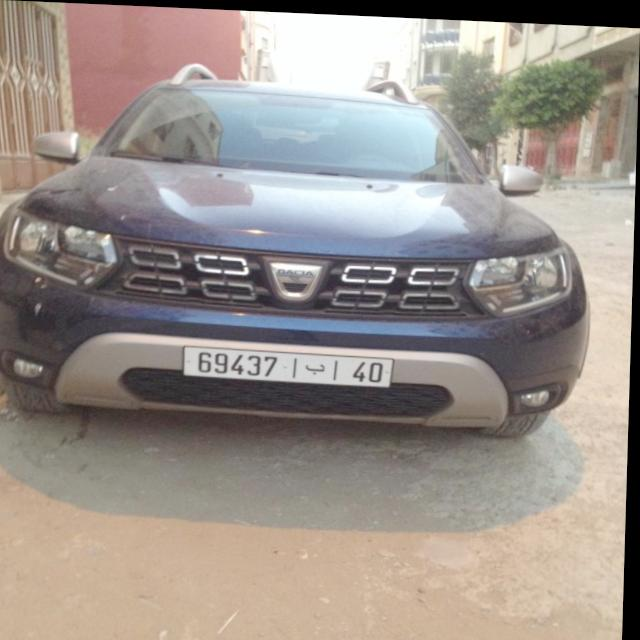License-Plate: (185, 344, 395, 383)
